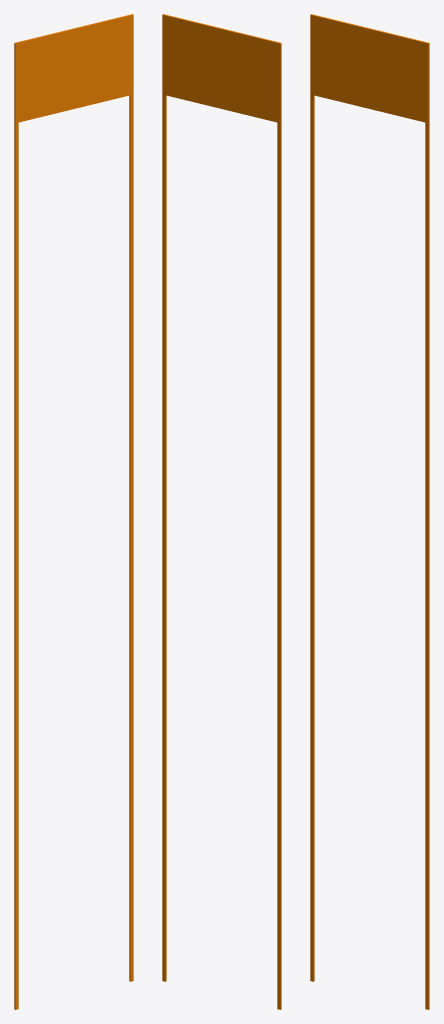
File: marker2_orange_LOD1.gltf
3 renders of one model, left to right at view 1: azimuth 30°, elevation 25°; view 2: azimuth 150°, elevation 25°; view 3: azimuth 330°, elevation 25°, orthographic.
Visible parts, largest first — view 1: Box001; view 2: Box001; view 3: Box001.
Part boxes in pixels (x1,y1,x2,y2): Box001: [14, 14, 133, 1009]; Box001: [162, 14, 281, 1009]; Box001: [310, 14, 429, 1009].
Size of the model in its own units: 0.7 by 5.45 by 0.01.
